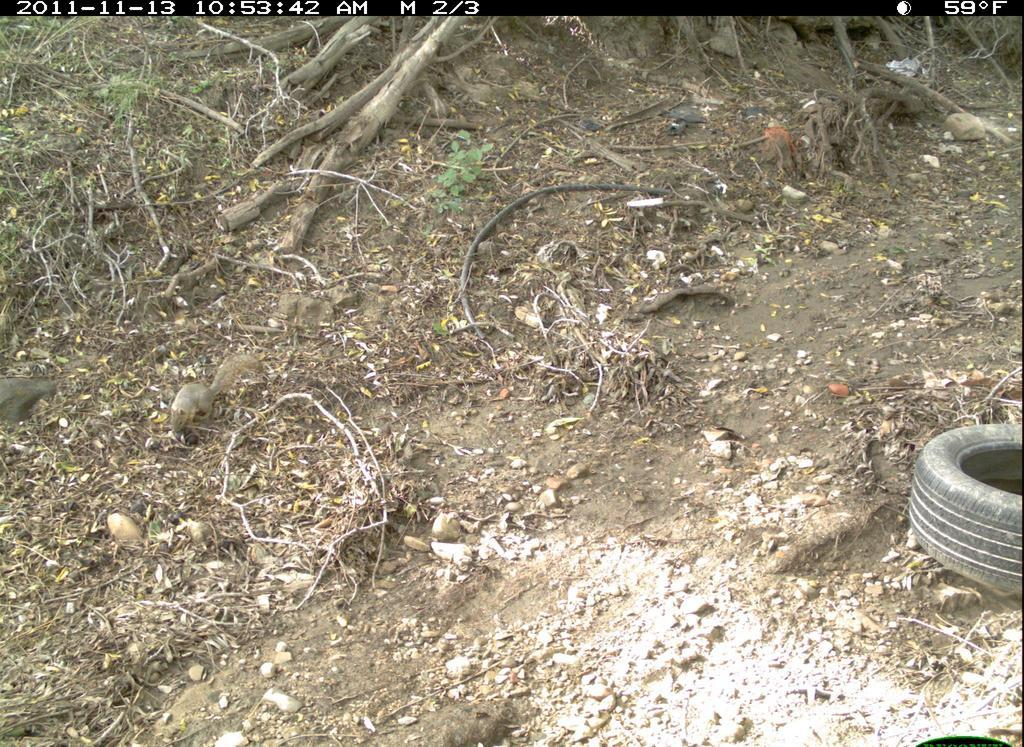squirrel: (159, 333, 282, 466)
